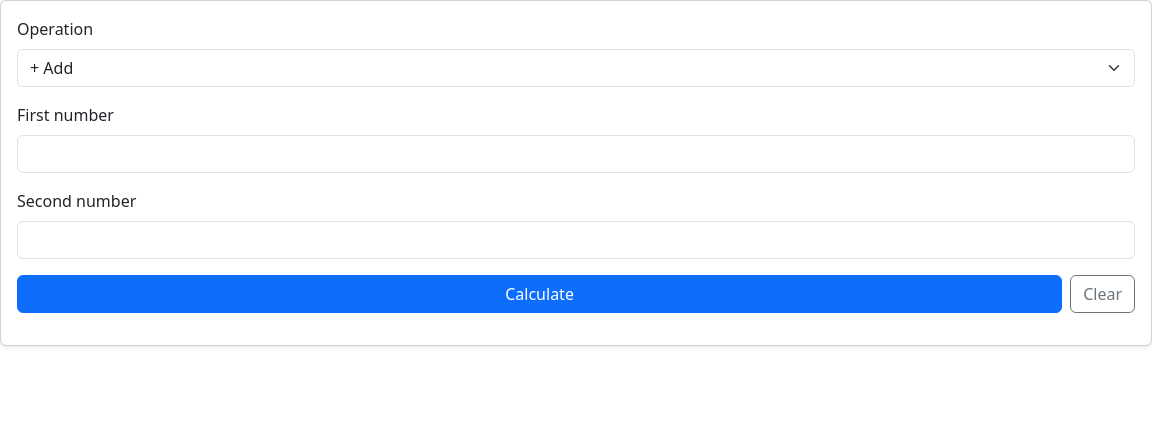
it: Calculator › sends a binary request and shows the formatted result
The width and height of the screenshot is (1152, 423).
Type "0.1" into the field labelled "First number" at (576, 154), box [17,135,1135,173]
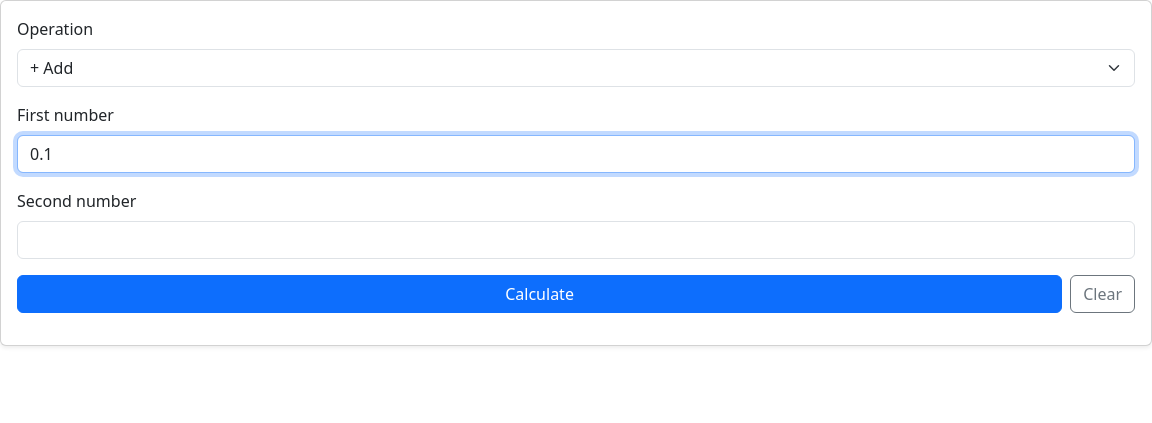
Type "0.2" into the field labelled "Second number" at (576, 240), box [17,221,1135,259]
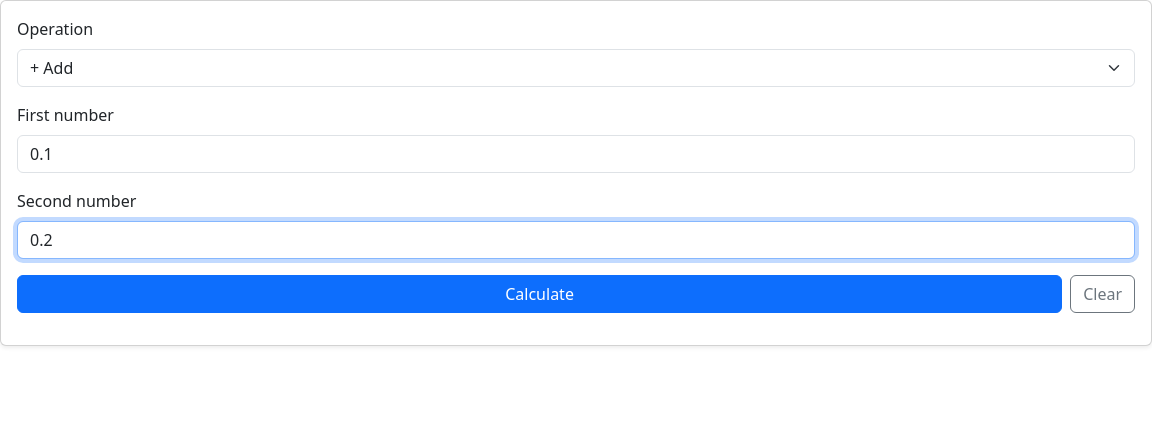
Click the button "Calculate" at (540, 294), box [17,275,1062,313]
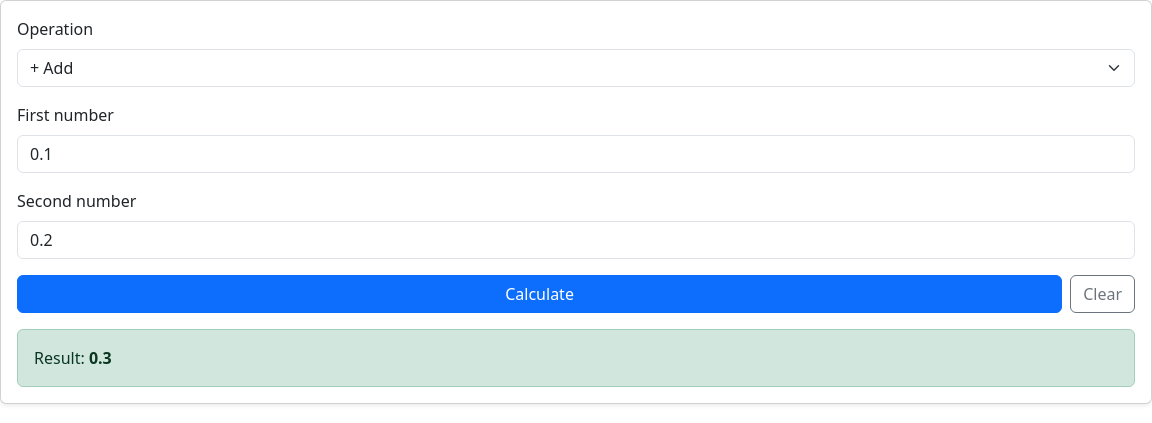
Expected: the message shows "0.3", [89,347,112,369]
